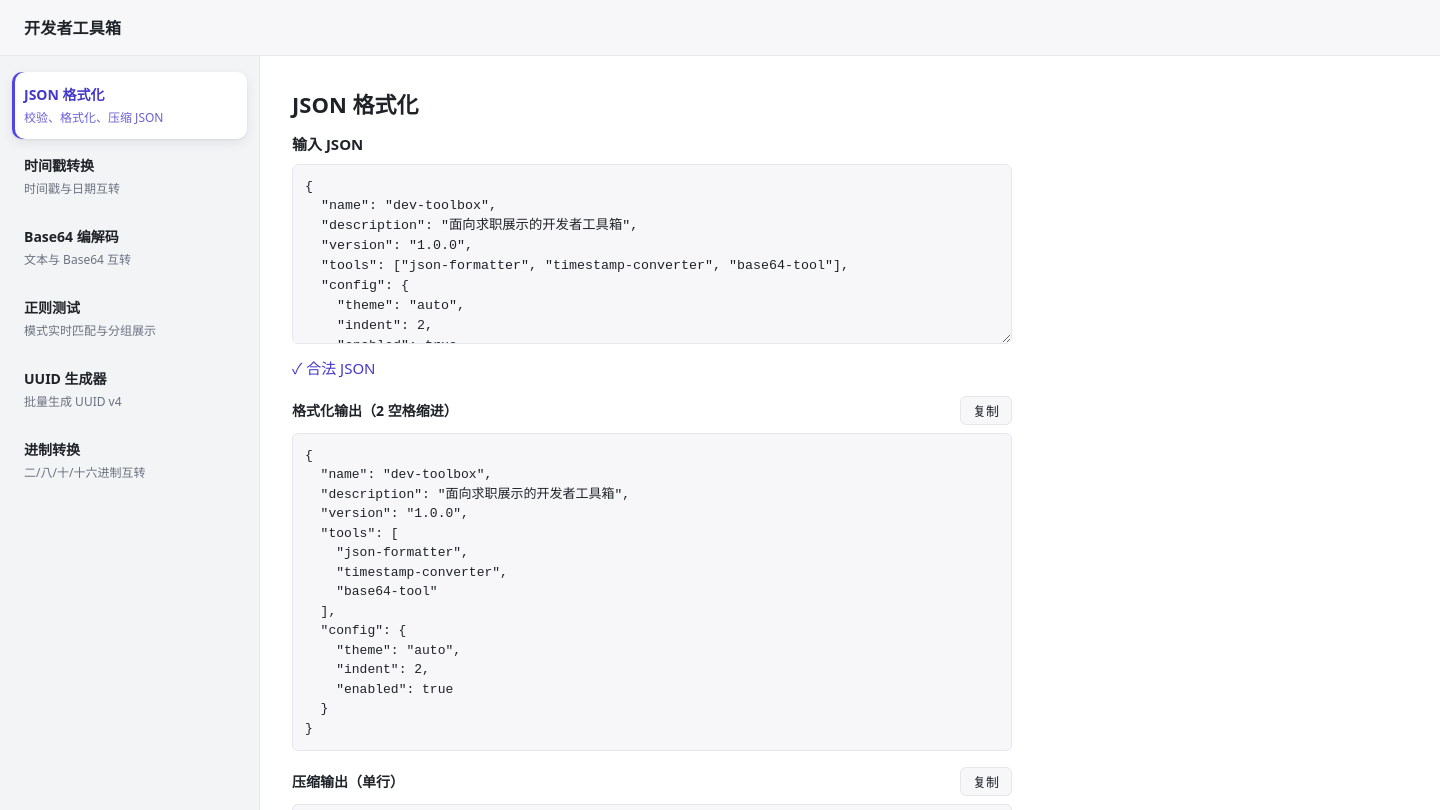
Scenario: AC-2 侧边栏切换与 hash 选中保持 › AC-2: 点击侧边栏切换工具并更新选中标记
The image size is (1440, 810).
Click the link "时间戳转换 时间戳与日期互转" at (72, 176), box [24,156,120,197]
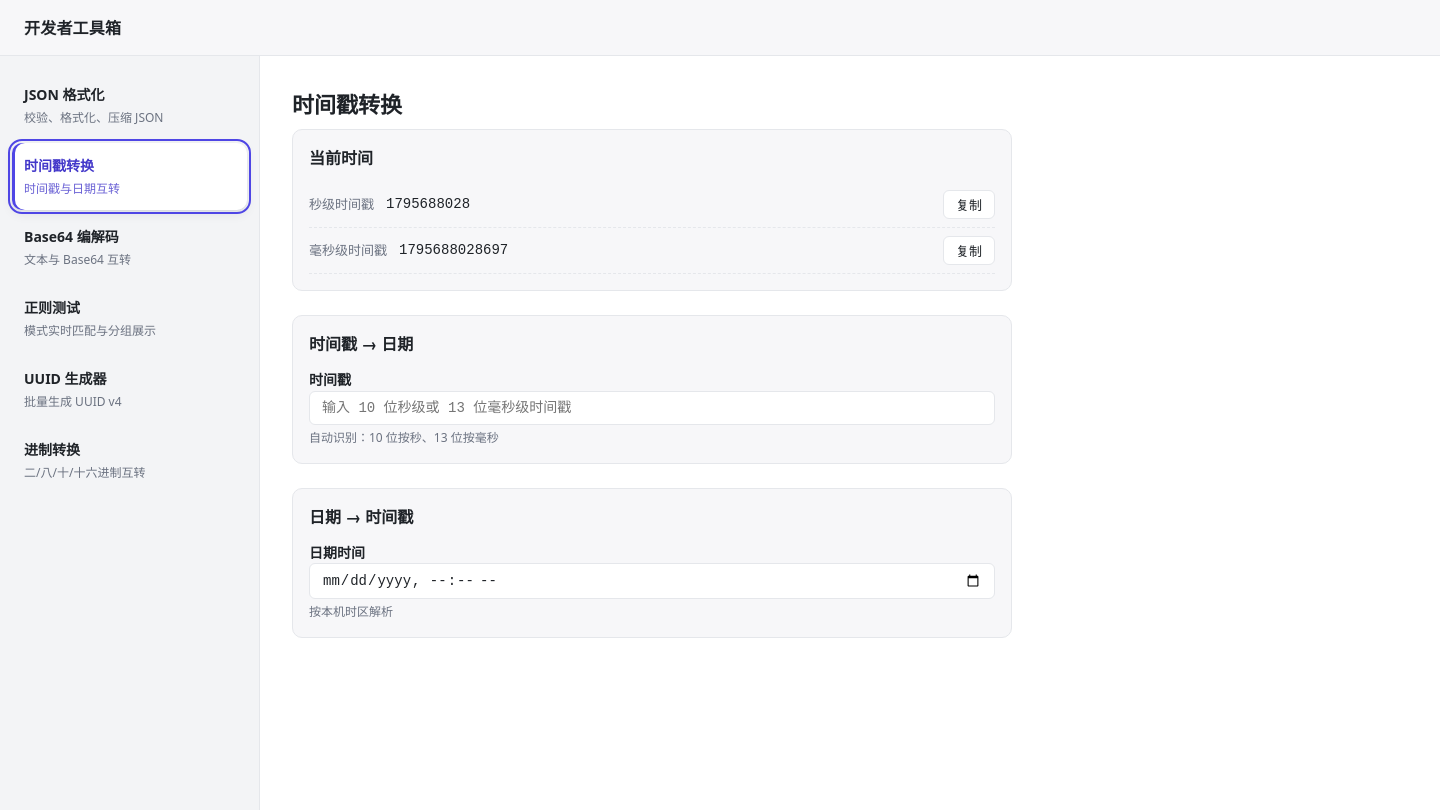
Now the heading "时间戳转换" is shown, box [292,89,402,119]
